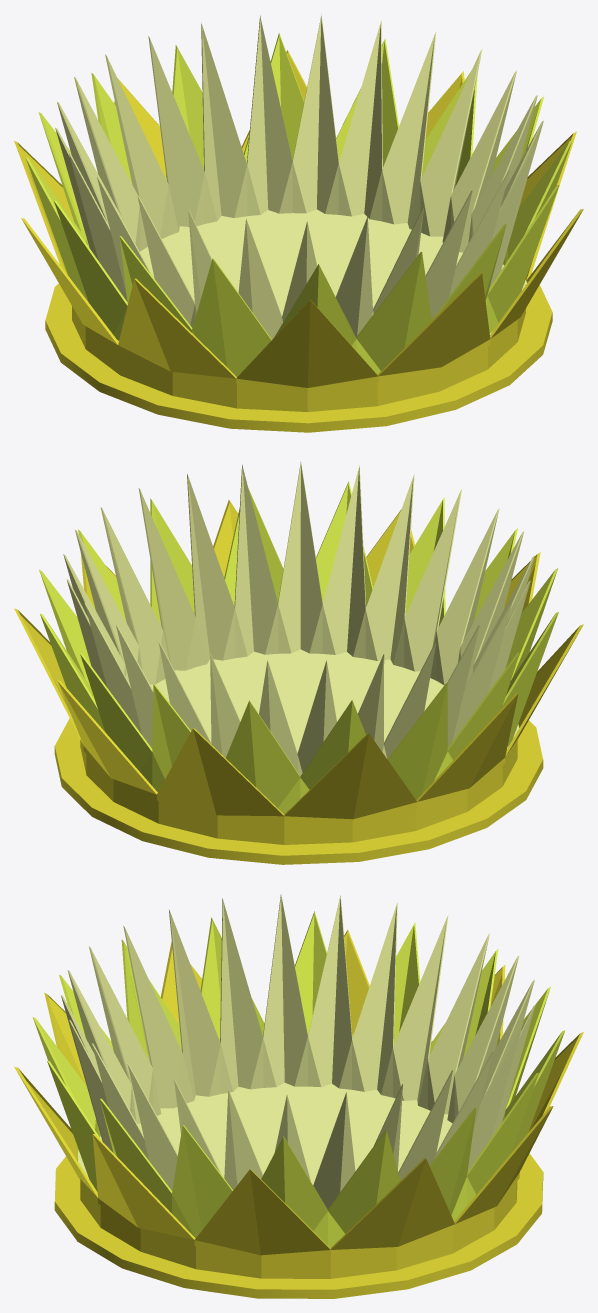
Rendered from portal_000032.obj.
The picture shows the model from 3 angles, top to bottom: view 1: azimuth 30°, elevation 25°; view 2: azimuth 150°, elevation 25°; view 3: azimuth 270°, elevation 25°; orthographic projection. The views are drawn at different scales.
Visible parts, largest first — view 1: Cylinder.001, pCylinder1, Cylinder; view 2: Cylinder.001, pCylinder1, Cylinder; view 3: Cylinder.001, pCylinder1, Cylinder.
Part boxes in pixels (<box>): Cylinder.001: <box>55,14,543,339</box>; pCylinder1: <box>14,50,583,432</box>; Cylinder: <box>25,33,572,376</box>; Cylinder.001: <box>63,462,534,775</box>; pCylinder1: <box>14,500,583,864</box>; Cylinder: <box>39,481,558,814</box>; Cylinder.001: <box>61,894,535,1209</box>; pCylinder1: <box>14,930,583,1298</box>; Cylinder: <box>32,911,565,1248</box>.
Bounding box in the file's own units: 7.34 × 2.9 × 7.37.
3 materials, 3 textured.
